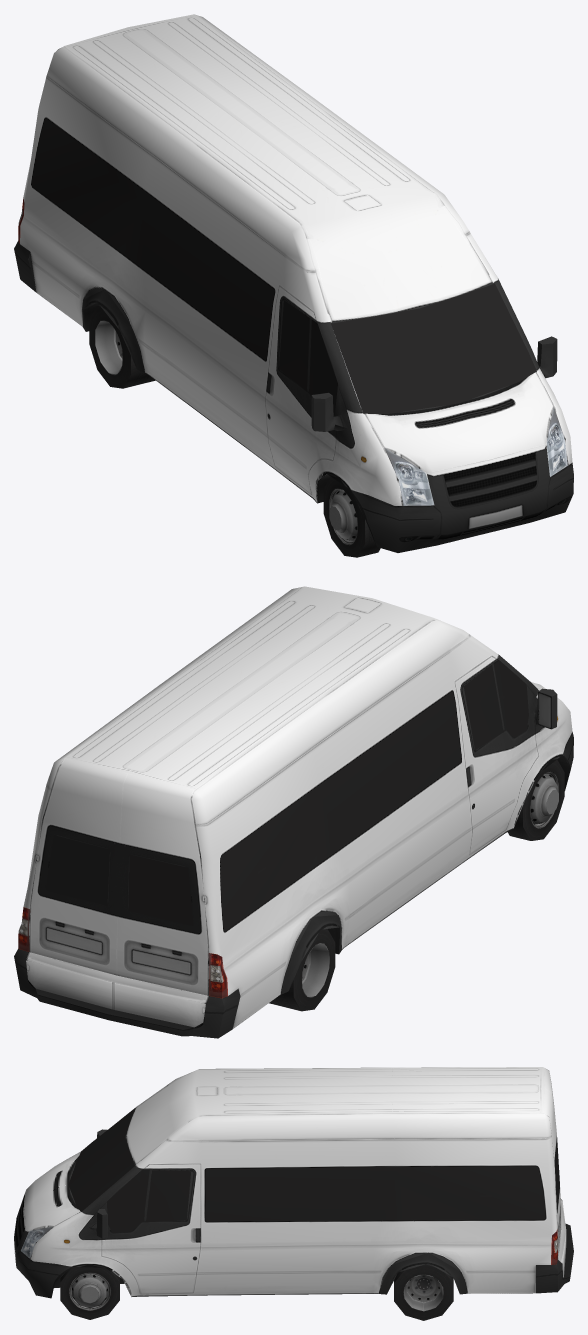
The model's file is syj_car06.FBX.
3 renders of one model, top to bottom at view 1: azimuth 30°, elevation 25°; view 2: azimuth 150°, elevation 25°; view 3: azimuth 270°, elevation 25°, orthographic. The views are drawn at different scales.
Parts seen in each view (by area): view 1: syj_car06; view 2: syj_car06; view 3: syj_car06.
Part boxes in pixels (x1,y1,x2,y2): syj_car06: (14,14,573,557); syj_car06: (14,586,573,1038); syj_car06: (14,1067,573,1320).
Bounding box in the file's own units: 235 × 252 × 650.
